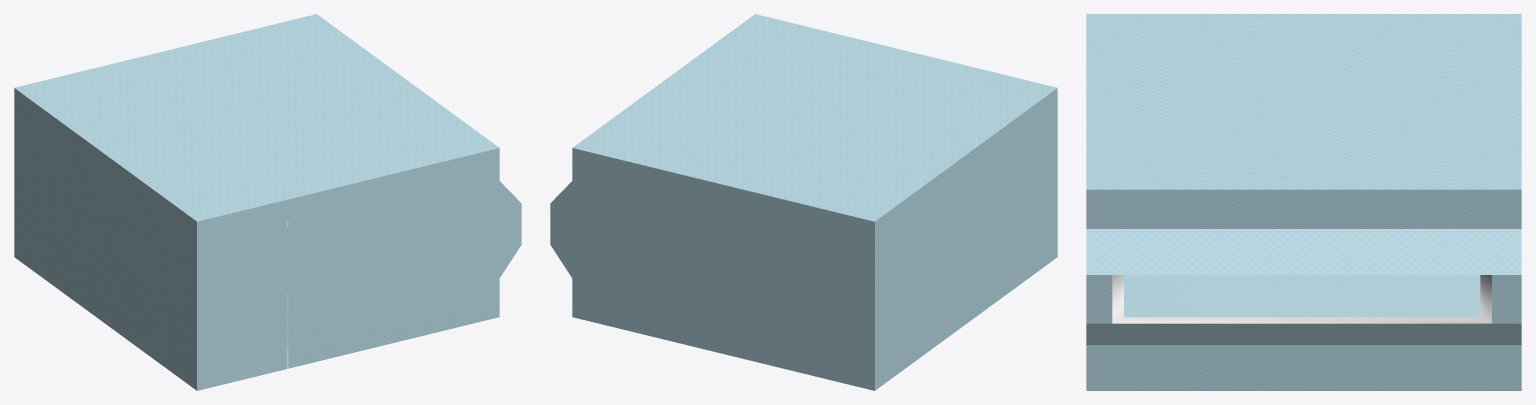
The model's file is Bedroom_Environ.fbx.
The picture shows the model from 3 angles, left to right: view 1: azimuth 30°, elevation 25°; view 2: azimuth 150°, elevation 25°; view 3: azimuth 270°, elevation 25°; orthographic projection. The views are drawn at different scales.
Visible parts, largest first — view 1: Bedroom, BedroomRoof; view 2: Bedroom, BedroomRoof; view 3: Bedroom, BedroomRoof.
Boxes of the visible parts, box(x1,y1,x2,y2) form: Bedroom: box(14, 89, 521, 390); BedroomRoof: box(14, 14, 499, 222); Bedroom: box(550, 89, 1057, 390); BedroomRoof: box(572, 14, 1057, 222); Bedroom: box(1086, 190, 1521, 390); BedroomRoof: box(1086, 14, 1521, 190).
Size of the model in its own units: 6.08 by 3.03 by 5.93.
